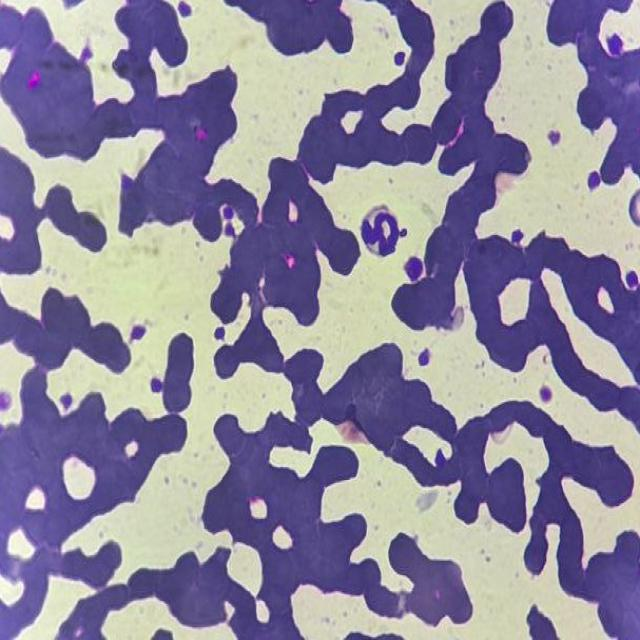Neutrofilo: (358, 203, 404, 258)
